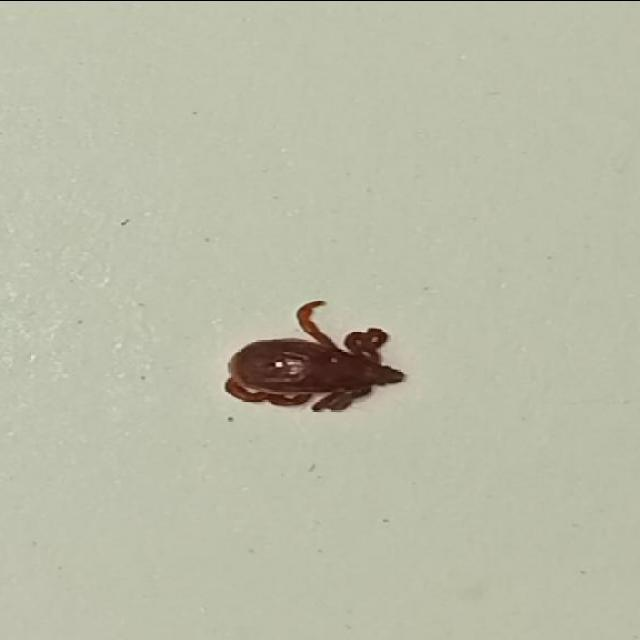Rhipicephalus Sanguineus-M: (225, 300, 409, 412)
